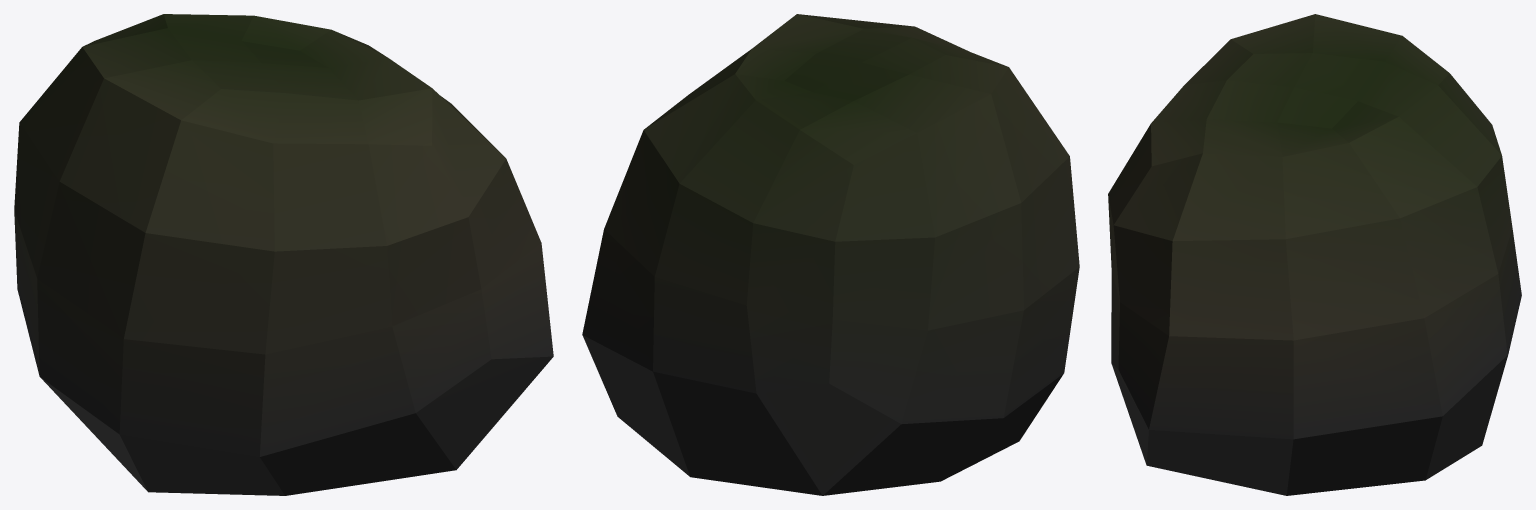
The model's file is LRock_1_v2.fbx.
3 views of the same model, side by side, from view 1: azimuth 30°, elevation 25°; view 2: azimuth 150°, elevation 25°; view 3: azimuth 270°, elevation 25° (orthographic). The views are drawn at different scales.
Parts seen in each view (by area): view 1: pCube44; view 2: pCube44; view 3: pCube44.
Part boxes in pixels (x1,y1,x2,y2): pCube44: (14,14,553,495); pCube44: (582,14,1079,495); pCube44: (1108,14,1521,495).
Size of the model in its own units: 293 by 259 by 277.
